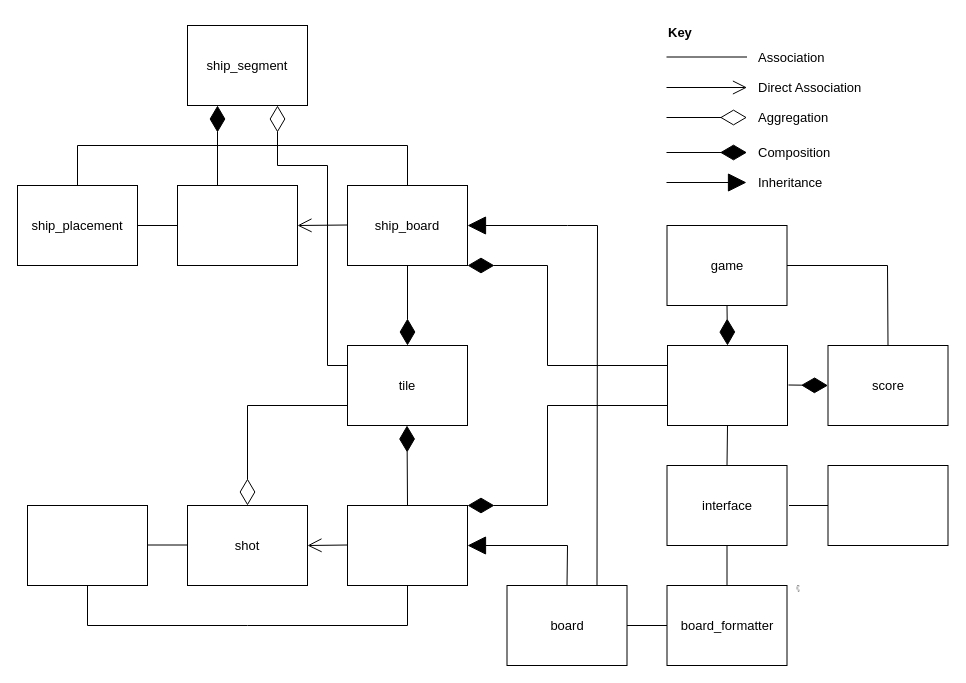
This 966x683 diagram has some shape labels left out. Grey dashed boxes stand in for pictures. The centre of each missing label's shape, as x and y in pixels:
"io_helper" goes at point 887,505.
"player" goes at point 727,385.
"ship" goes at point 237,225.
"shot_board" goes at point 407,545.
"shot_placement" goes at point 87,545.
